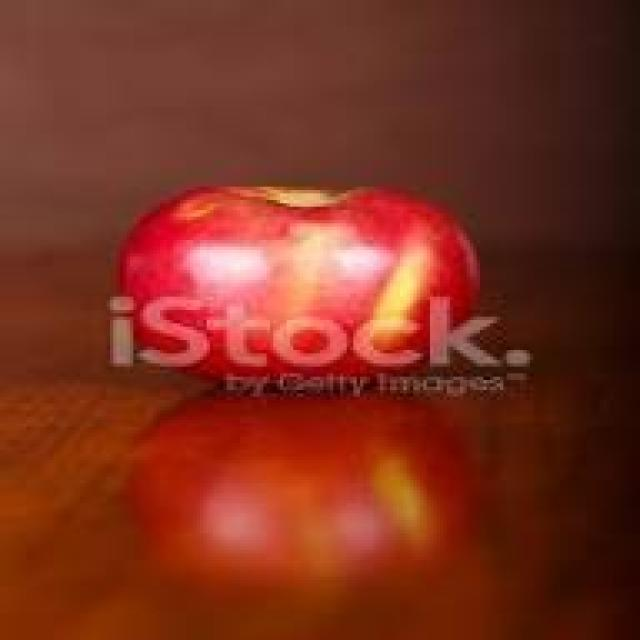apple: (124, 190, 474, 400)
